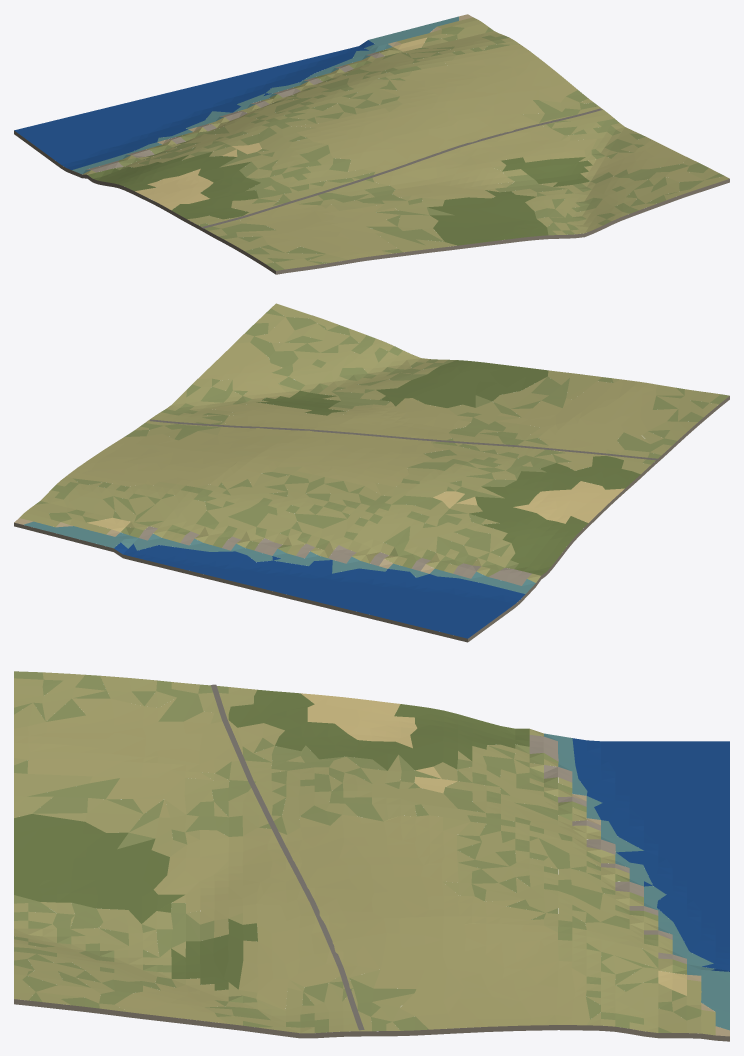
Rendered from parca_+2_+2-uzak.glb.
3 renders of one model, top to bottom at view 1: azimuth 30°, elevation 25°; view 2: azimuth 150°, elevation 25°; view 3: azimuth 270°, elevation 25°, orthographic. The views are drawn at different scales.
Parts seen in each view (by area): view 1: parca_+2_+2_arazi_uzak, parca_+2_+2_yollar_uzak; view 2: parca_+2_+2_arazi_uzak, parca_+2_+2_yollar_uzak; view 3: parca_+2_+2_arazi_uzak, parca_+2_+2_yollar_uzak.
Boxes of the visible parts, <box> form: parca_+2_+2_arazi_uzak: <box>14,14,729,274</box>; parca_+2_+2_yollar_uzak: <box>201,108,602,228</box>; parca_+2_+2_arazi_uzak: <box>14,303,729,642</box>; parca_+2_+2_yollar_uzak: <box>149,419,658,460</box>; parca_+2_+2_arazi_uzak: <box>14,671,729,1041</box>; parca_+2_+2_yollar_uzak: <box>211,684,364,1030</box>.
Bounding box in the file's own units: 1002 × 116 × 1000.
